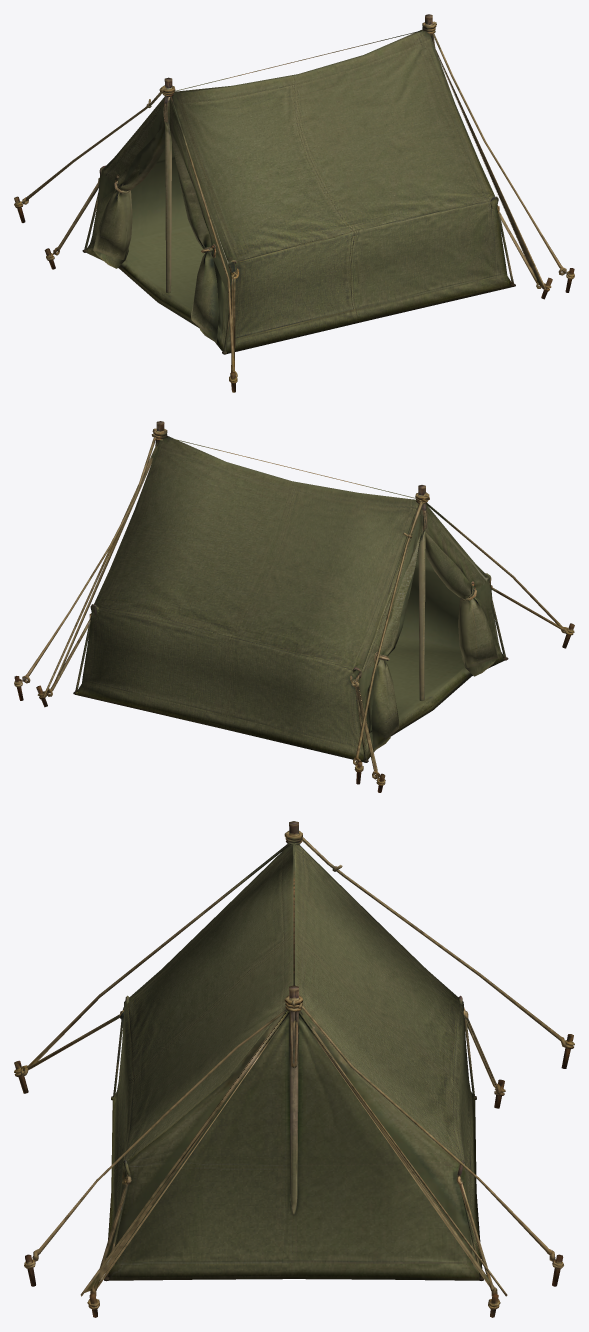
File: generated-1948-08-khaki-canvas-tent.glb
3 views of the same model, one above another, from view 1: azimuth 30°, elevation 25°; view 2: azimuth 150°, elevation 25°; view 3: azimuth 270°, elevation 25° (orthographic). The views are drawn at different scales.
Visible parts, largest first — view 1: tripo_node_24a42a3b-bde0-41c2-a2a9-6bb48f2e19bc; view 2: tripo_node_24a42a3b-bde0-41c2-a2a9-6bb48f2e19bc; view 3: tripo_node_24a42a3b-bde0-41c2-a2a9-6bb48f2e19bc.
Part boxes in pixels (x1,y1,x2,y2): tripo_node_24a42a3b-bde0-41c2-a2a9-6bb48f2e19bc: (14, 14, 574, 392); tripo_node_24a42a3b-bde0-41c2-a2a9-6bb48f2e19bc: (14, 421, 574, 792); tripo_node_24a42a3b-bde0-41c2-a2a9-6bb48f2e19bc: (14, 821, 574, 1317).
Bounding box in the file's own units: 0.9429 × 0.606 × 0.9995.
1 material, 1 textured.
